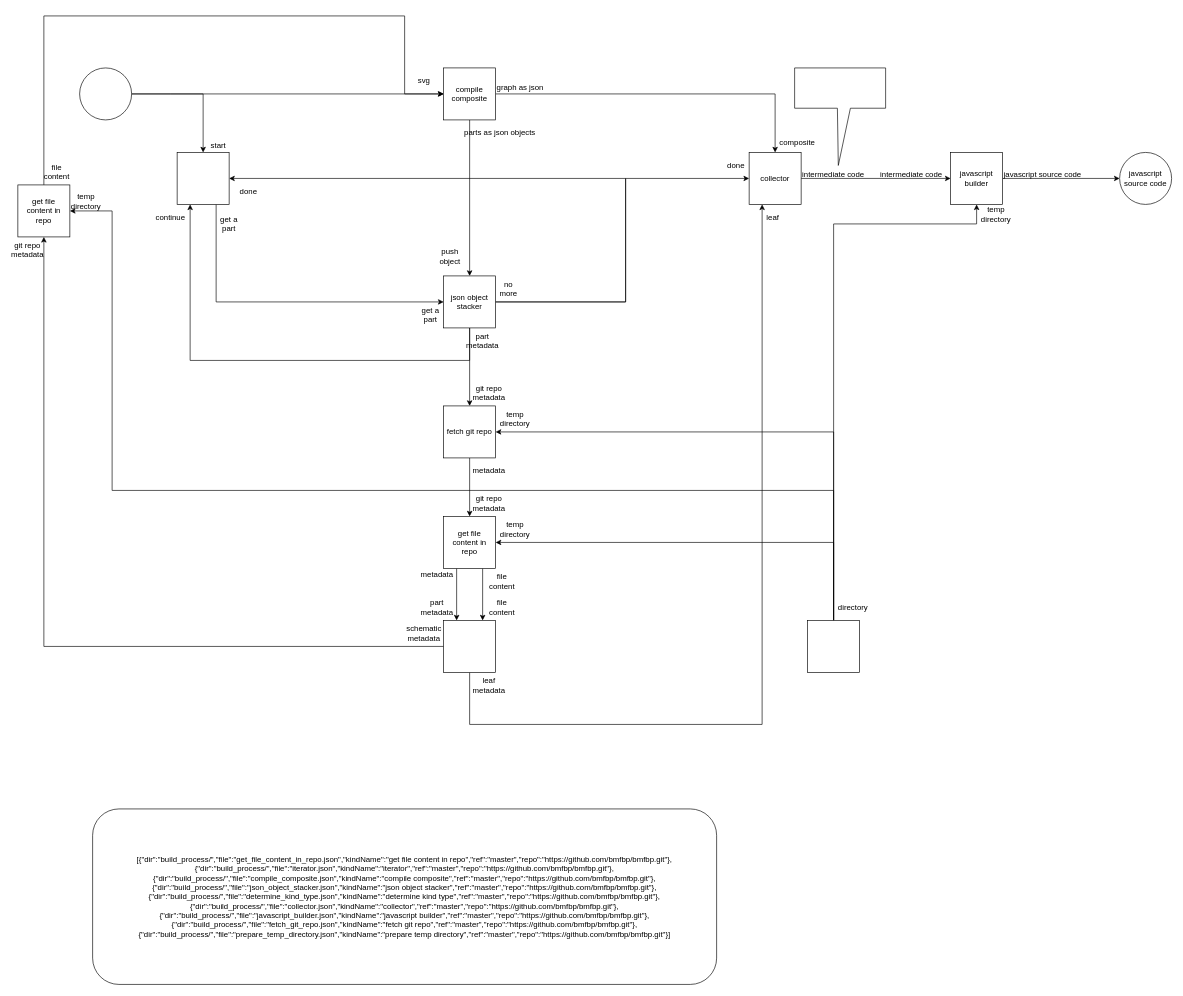
Some shapes in this 1183 by 996 pixel diagram are drawn without their labels. Each missing label, with the centre of its shape:
"determine kindType" belongs at (x=469, y=646).
"Hash table as JSON" belongs at (x=840, y=116).
"iterator" belongs at (x=202, y=178).
"prepare temp directory" belongs at (x=833, y=646).
"top-level svg" belongs at (x=105, y=93).
